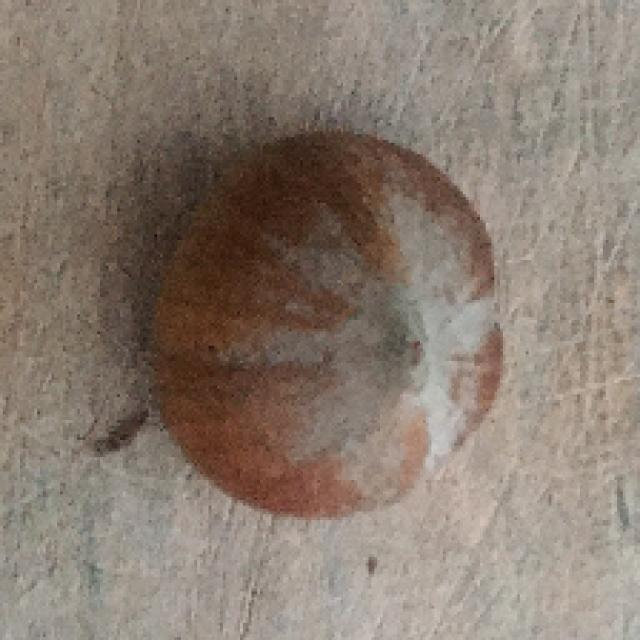DamagedHazelnut: (153, 128, 514, 515)
